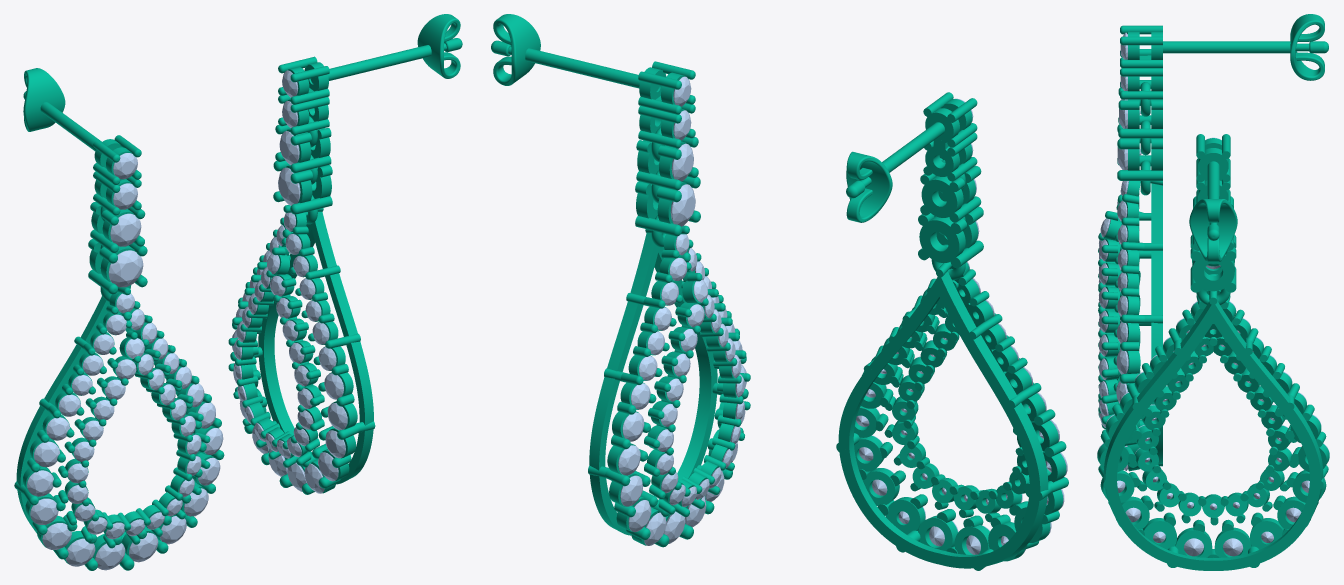
3 views of the same model, side by side, from view 1: azimuth 30°, elevation 25°; view 2: azimuth 150°, elevation 25°; view 3: azimuth 270°, elevation 25° (orthographic). The views are drawn at different scales.
Visible parts, largest first — view 1: VEAR137.3dm, Diamond_Round (×9); view 2: VEAR137.3dm, Bezel (×6), Diamond_Round; view 3: VEAR137.3dm, Bezel (×29), Head Prong (×7).
Part boxes in pixels (x1,y1,x2,y2): VEAR137.3dm: (14,14,462,538); Diamond_Round (×9): (27,167,300,570); VEAR137.3dm: (491,14,1052,570); Bezel (×6): (862,146,965,550); Diamond_Round: (670,184,695,226); VEAR137.3dm: (1103,14,1328,570); Bezel (×29): (1097,148,1329,557); Head Prong (×7): (1117,25,1162,180).
Bounding box in the file's own units: 2.89 × 2.5 × 1.19.
